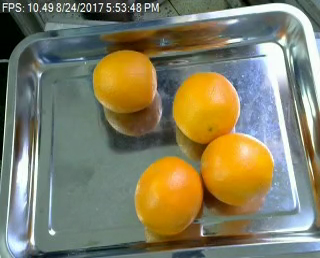Orange: (134, 154, 203, 235), (201, 132, 276, 205), (172, 71, 240, 143), (92, 48, 156, 112)
